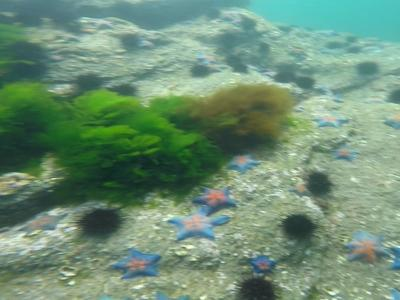urchin: (74, 210, 121, 238), (237, 277, 274, 296), (286, 214, 314, 239), (309, 169, 330, 198), (75, 73, 101, 87), (271, 71, 295, 83), (297, 75, 315, 89)
